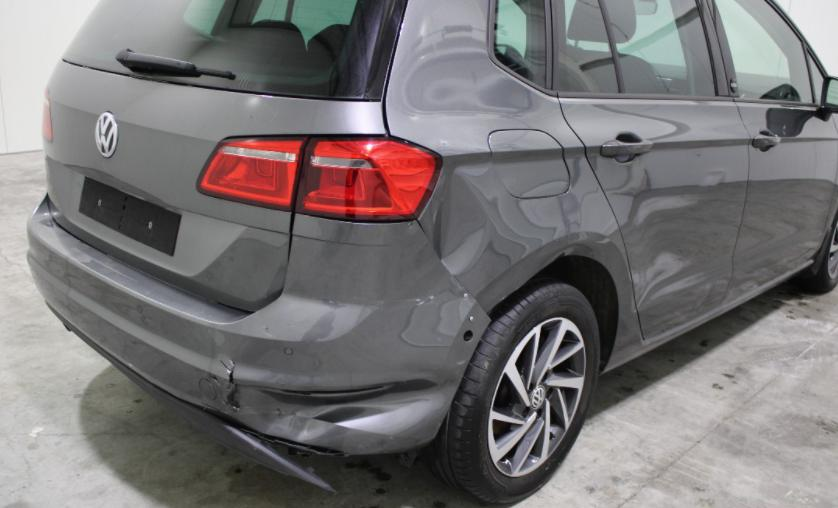Back-bumper: (26, 195, 491, 459)
Back-door: (551, 0, 751, 339)
Back-wheel: (431, 282, 600, 503)
Back-window: (604, 0, 716, 95), (559, 0, 619, 91), (493, 0, 546, 90)
Back-windshield: (63, 0, 407, 101)
Front-door: (707, 0, 838, 304)
Front-wheel: (813, 221, 837, 293)
Front-window: (714, 0, 827, 104)
Mirror: (824, 78, 838, 110)
Quarter-panel: (383, 1, 648, 373)
Tail-light: (295, 135, 442, 223), (197, 136, 311, 212), (42, 87, 53, 139)
Trunk: (45, 0, 408, 313)
